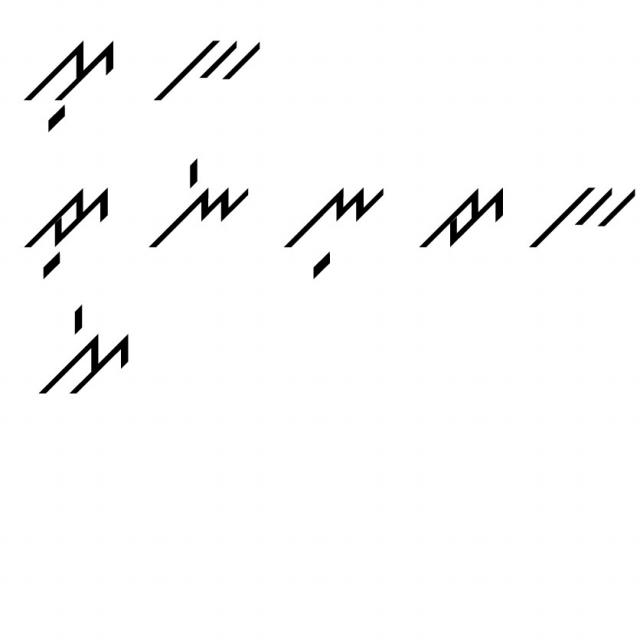ja: (419, 172, 514, 266)
ju: (17, 172, 120, 284)
nye: (145, 152, 254, 256)
nyu: (277, 165, 391, 287)
se: (22, 299, 136, 408)
su: (16, 26, 123, 139)
